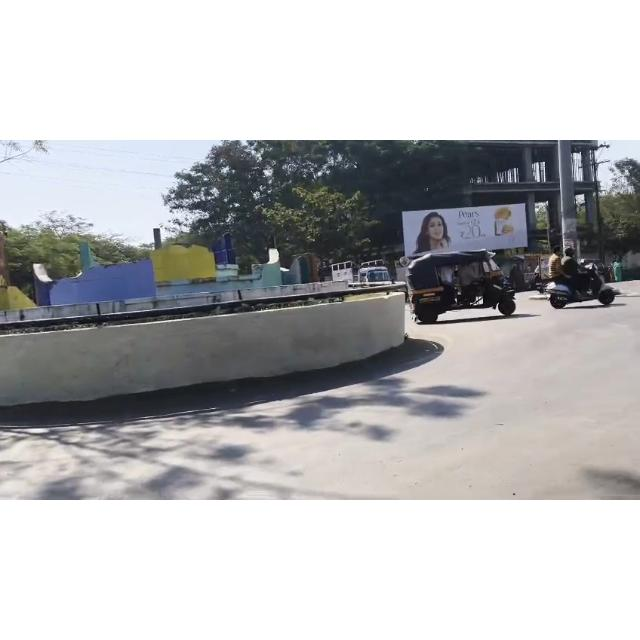auto: (404, 249, 520, 323)
